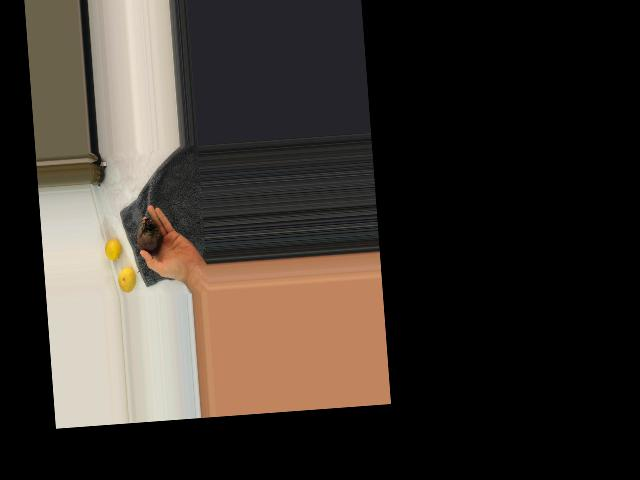beet: (133, 217, 164, 272)
